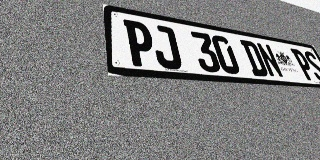0: (210, 34, 241, 75)
3: (190, 31, 222, 73)
D: (240, 39, 270, 77)
J: (150, 24, 183, 70)
N: (255, 42, 285, 78)
P: (123, 19, 157, 68), (290, 48, 318, 81)
S: (302, 50, 320, 82)
